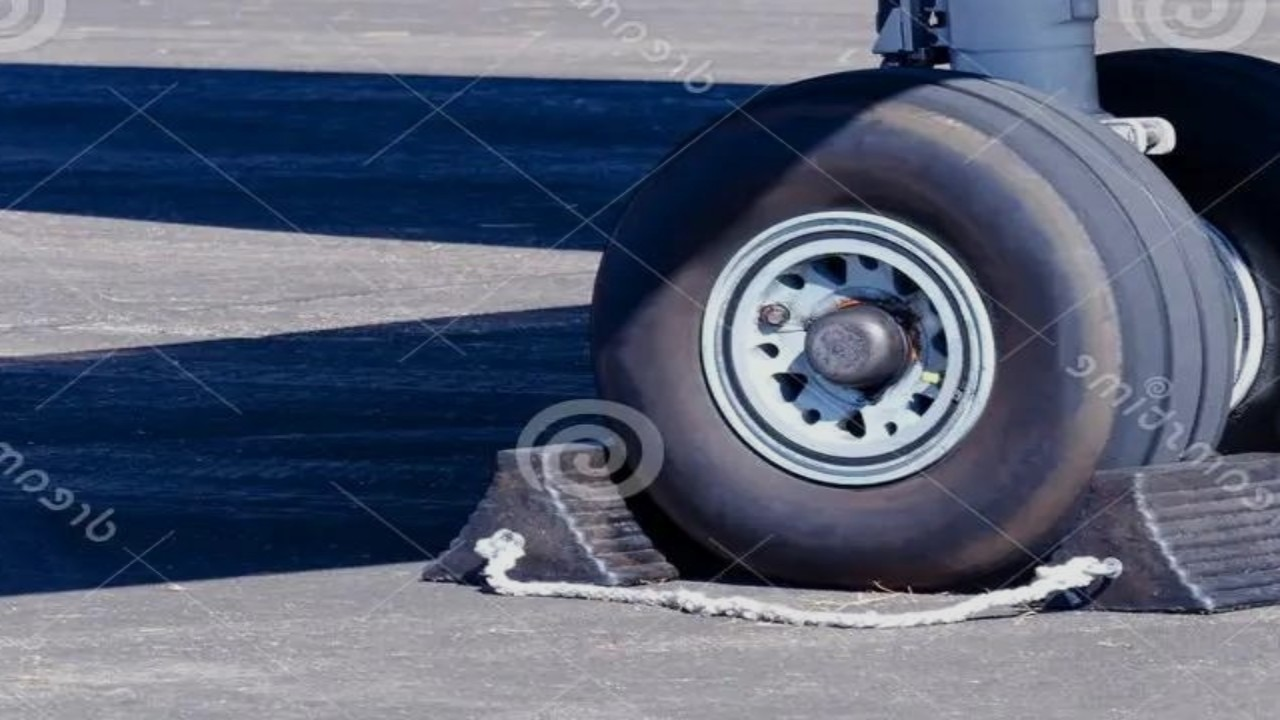chock: (419, 437, 684, 602), (1039, 448, 1280, 619)
wheel: (592, 66, 1242, 585), (1078, 43, 1280, 551)
